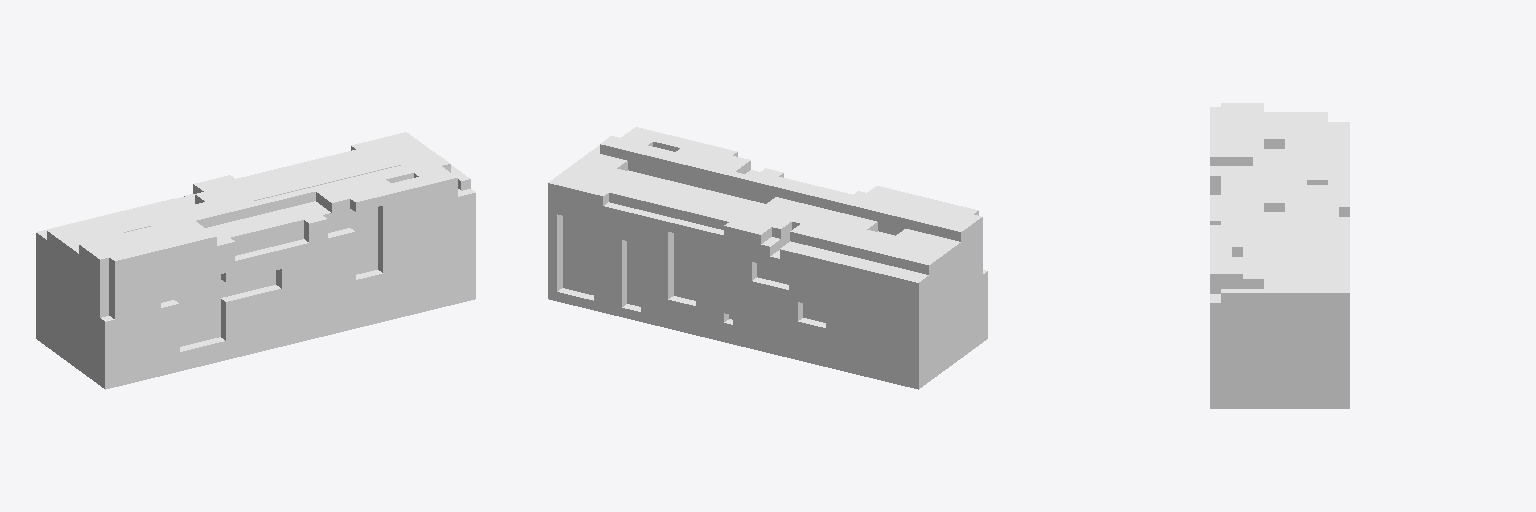
File: wallprefab.obj
The picture shows the model from 3 angles: view 1: azimuth 30°, elevation 25°; view 2: azimuth 150°, elevation 25°; view 3: azimuth 270°, elevation 25°; orthographic projection.
Visible parts, largest first — view 1: object 1; view 2: object 1; view 3: object 1.
Part boxes in pixels (x1,y1,x2,y2): object 1: (36,132,475,389); object 1: (548,127,987,389); object 1: (1210,103,1349,408).
Bounding box in the file's own units: 4 × 1.3 × 1.3.